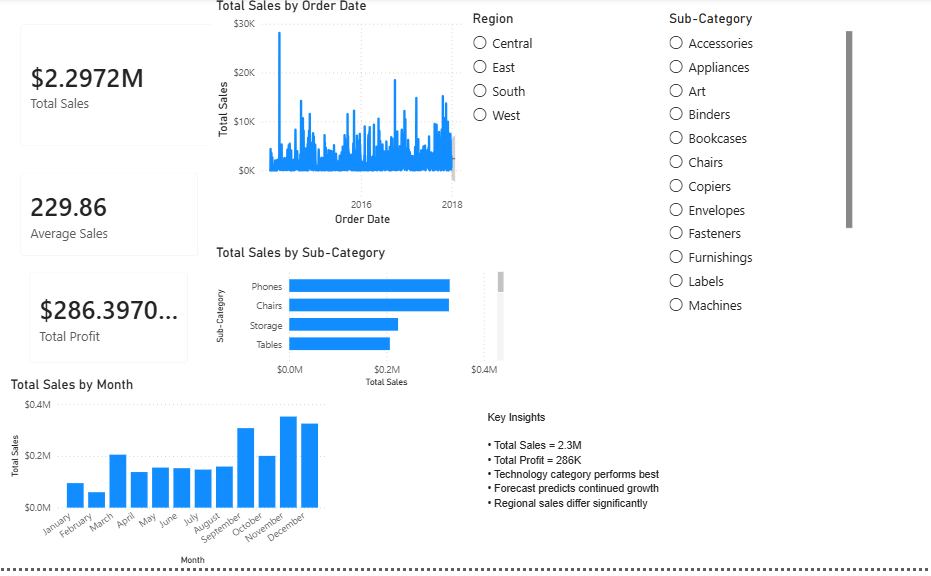

The dashboard page shown, as its layout file describes it:
{"tool":"powerbi","page":{"name":"Page 1","canvas":[1280,720],"ordinal":0},"visuals":[{"type":"cardVisual","fields":{"Data":["sales.Total Sales"]},"box":[9.4,17,279.7,187.1],"z":0},{"type":"cardVisual","fields":{"Data":["sales.Average Sales"]},"box":[9.4,204.1,258.9,139.8],"z":1000},{"type":"cardVisual","fields":{"Data":["sales.Total Profit"]},"box":[20.8,328.8,234.3,149.3],"z":2000},{"type":"lineChart","fields":{"Y":["sales.Total Sales"],"Category":["sales.Order Date"]},"box":[268,0,324,292],"z":3000},{"type":"listSlicer","fields":{"Values":["sales.Region"]},"box":[591.5,17,234.3,234.3],"z":4000},{"type":"listSlicer","fields":{"Values":["sales.Sub-Category"]},"box":[839.1,17,241.9,387.4],"z":5000},{"type":"clusteredColumnChart","fields":{"Y":["sales.Total Sales"],"Category":["sales.Order Date.Variation.Date Hierarchy.Month"]},"box":[9.4,478.1,408.2,241.9],"z":6000},{"type":"barChart","fields":{"Y":["sales.Total Sales"],"Category":["sales.Sub-Category"]},"box":[268,312,372,184],"z":7000},{"type":"textbox","box":[610,514,472,172],"z":8000}]}

Visuals, with their boxes on the page's 1280x720 design canvas (x1, y1, x2, y2). These are canvas units, not pixel positions in the 931x576 screenshot, which may show the page scaled, cropped or inside an application window:
cardVisual - sales.Total Sales: 9,17,289,204
cardVisual - sales.Average Sales: 9,204,268,344
cardVisual - sales.Total Profit: 21,329,255,478
lineChart - sales.Total Sales x sales.Order Date: 268,0,592,292
listSlicer - sales.Region: 592,17,826,251
listSlicer - sales.Sub-Category: 839,17,1081,404
clusteredColumnChart - sales.Total Sales x sales.Order Date.Variation.Date Hierarchy.Month: 9,478,418,720
barChart - sales.Total Sales x sales.Sub-Category: 268,312,640,496
textbox: 610,514,1082,686
